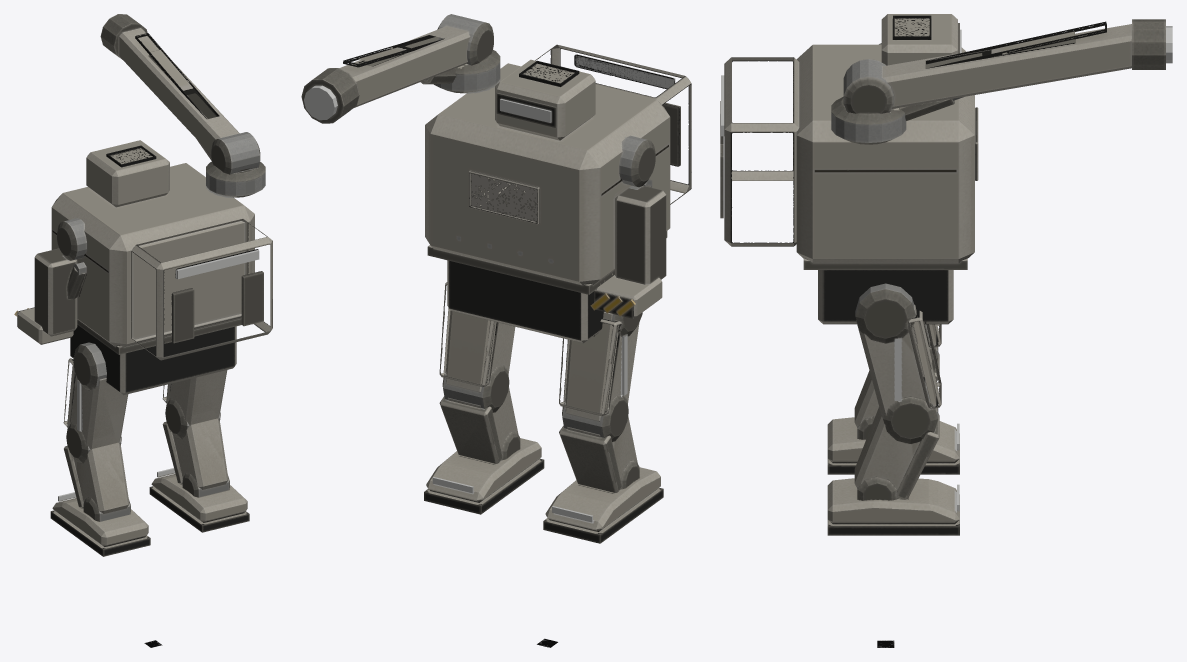
File: ord_draftsman.fbx
3 renders of one model, left to right at view 1: azimuth 30°, elevation 25°; view 2: azimuth 150°, elevation 25°; view 3: azimuth 270°, elevation 25°, orthographic. The views are drawn at different scales.
Parts seen in each view (by area): view 1: torso_bar, nano_bar, base_bar, thighL_bar, shinR_bar, shinL_bar, footL_bar, footR_bar, thighR_bar, torso_glow_power_bar; view 2: torso_bar, nano_bar, base_bar, thighL_bar, thighR_bar, footR_bar, footL_bar, shinR_bar, shinL_bar, nano_glow_power_bar, torso_glow_head_bar, torso_glow_power_bar; view 3: torso_bar, nano_bar, thighR_bar, footR_bar, base_bar, shinR_bar, footL_bar, shinL_bar.
Boxes of the visible parts, x1,y1,x2,y2 form: torso_bar: [14, 140, 272, 360]; nano_bar: [100, 14, 260, 174]; base_bar: [70, 325, 236, 395]; thighL_bar: [63, 342, 128, 463]; shinR_bar: [162, 418, 229, 497]; shinL_bar: [64, 442, 130, 521]; footL_bar: [50, 498, 150, 556]; footR_bar: [149, 473, 249, 532]; thighR_bar: [162, 370, 227, 439]; torso_glow_power_bar: [176, 250, 259, 279]; torso_bar: [425, 44, 691, 318]; nano_bar: [301, 14, 493, 123]; base_bar: [447, 260, 603, 343]; thighL_bar: [559, 312, 642, 441]; thighR_bar: [439, 282, 515, 412]; footR_bar: [424, 438, 544, 514]; footL_bar: [543, 467, 663, 543]; shinR_bar: [439, 387, 520, 463]; shinL_bar: [559, 416, 639, 492]; nano_glow_power_bar: [304, 85, 337, 120]; torso_glow_head_bar: [500, 99, 551, 122]; torso_glow_power_bar: [575, 54, 675, 85]; torso_bar: [720, 14, 978, 269]; nano_bar: [843, 19, 1165, 120]; thighR_bar: [855, 283, 941, 443]; footR_bar: [827, 478, 959, 535]; base_bar: [818, 270, 953, 324]; shinR_bar: [854, 407, 939, 500]; footL_bar: [827, 417, 959, 474]; shinL_bar: [854, 352, 939, 439].
Bounding box in the file's own units: 357 × 870 × 533.
2 materials, 2 textured.
